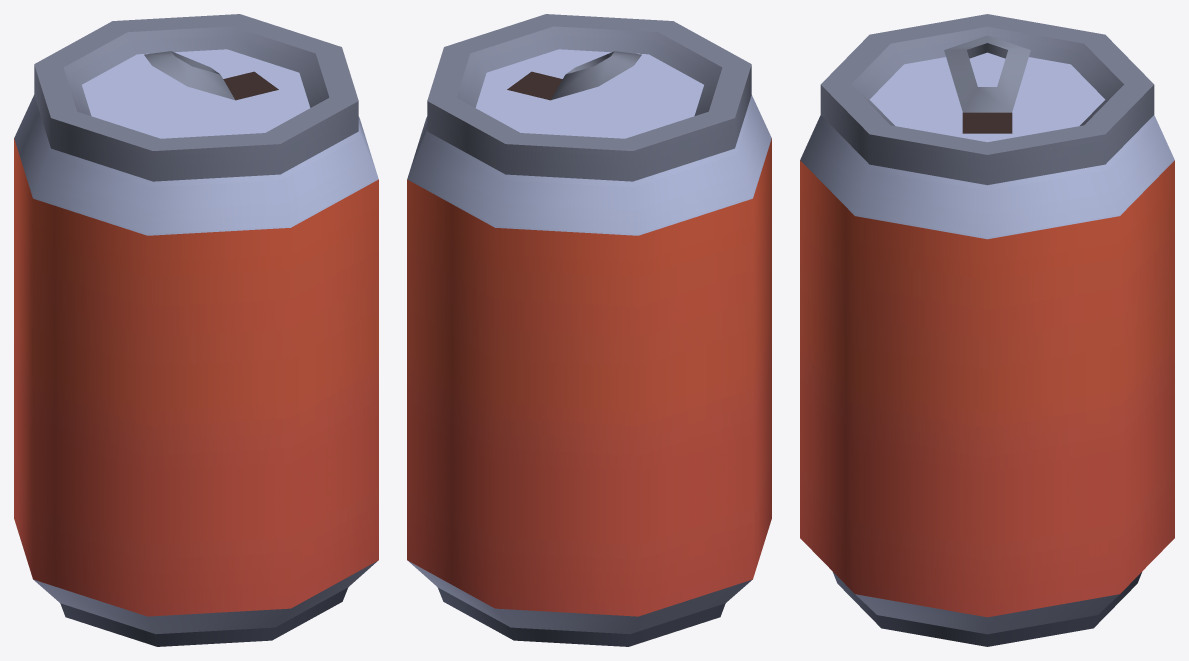
The model's file is soda-can.glb.
The picture shows the model from 3 angles, left to right: view 1: azimuth 30°, elevation 25°; view 2: azimuth 150°, elevation 25°; view 3: azimuth 270°, elevation 25°; orthographic projection.
Visible parts, largest first — view 1: soda-can; view 2: soda-can; view 3: soda-can.
Part boxes in pixels (<box>): soda-can: <box>14,14,378,646</box>; soda-can: <box>407,14,771,646</box>; soda-can: <box>800,14,1174,646</box>.
Bounding box in the file's own units: 0.2246 × 0.3506 × 0.2246.
1 material, 1 textured.
